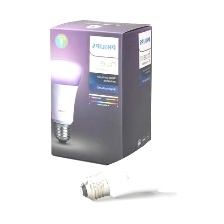book: (41, 16, 157, 170)
light_bulb: (77, 125, 224, 203)
